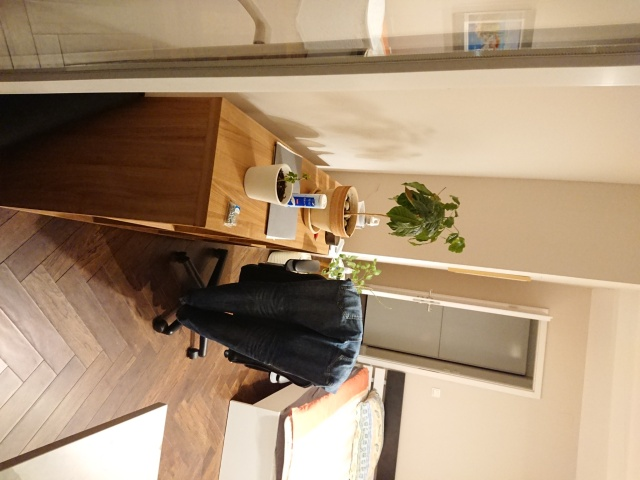Solana Pag Fine Sea Salt 250g: (274, 190, 330, 213)
